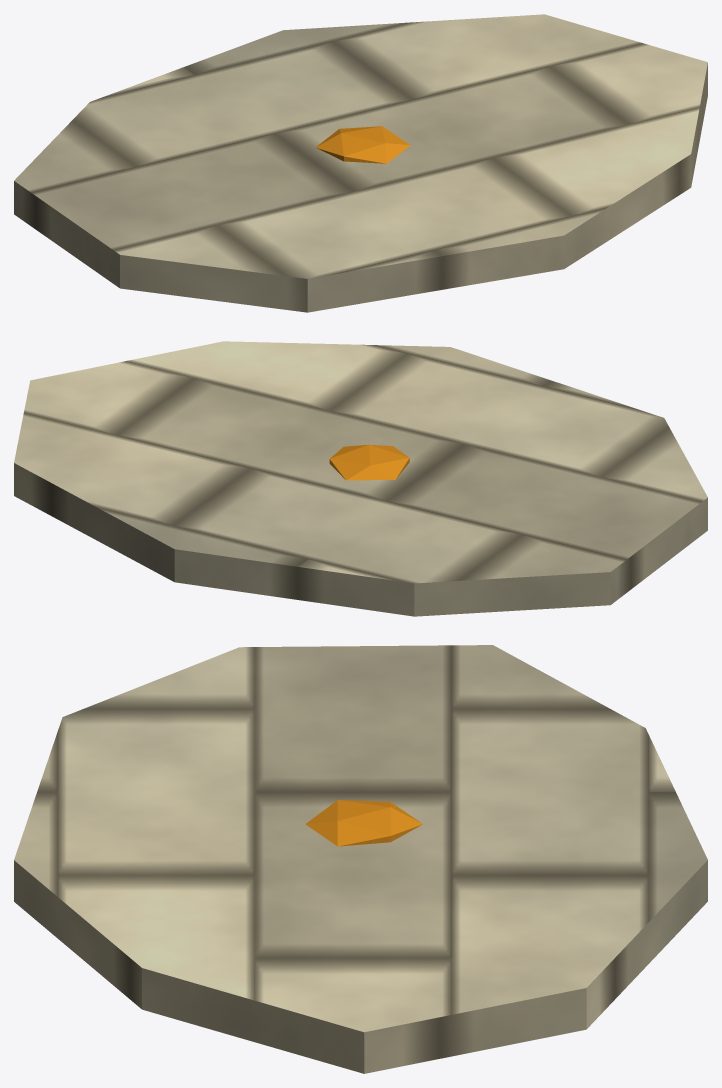
Rendered from path_slab_cloud_a.glb.
3 renders of one model, top to bottom at view 1: azimuth 30°, elevation 25°; view 2: azimuth 150°, elevation 25°; view 3: azimuth 270°, elevation 25°, orthographic. The views are drawn at different scales.
Visible parts, largest first — view 1: path_slab_cloud_a; view 2: path_slab_cloud_a; view 3: path_slab_cloud_a.
Part boxes in pixels (box(x1,y1,x2,y2)): path_slab_cloud_a: box(14, 14, 707, 312); path_slab_cloud_a: box(14, 341, 707, 616); path_slab_cloud_a: box(14, 645, 707, 1073).
Size of the model in its own units: 1.4 by 0.087 by 1.06.
Materials: 2 (1 with a texture image).
